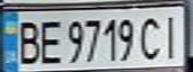1: (100, 15, 121, 62)
7: (81, 16, 103, 63)
9: (115, 15, 139, 62), (63, 16, 84, 64)
B: (12, 16, 42, 65)
C: (136, 12, 166, 61)
E: (36, 16, 63, 65)
I: (157, 11, 184, 61)
